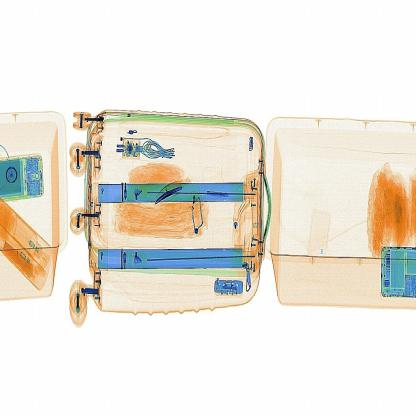pliers: (147, 172, 195, 208)
